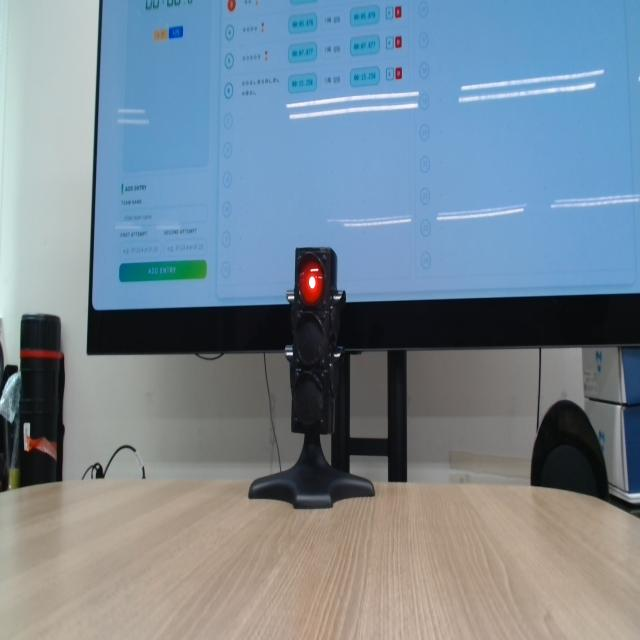red_light: (299, 258, 324, 306)
